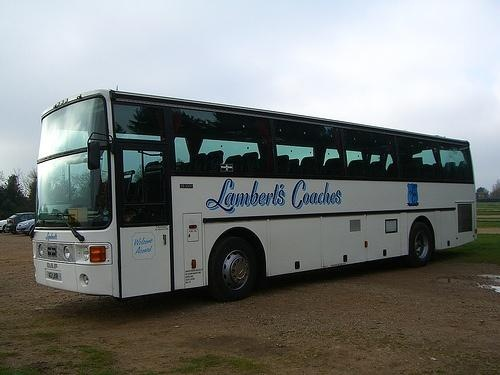bus: (33, 89, 479, 305)
car: (8, 212, 36, 234), (15, 216, 39, 238)
